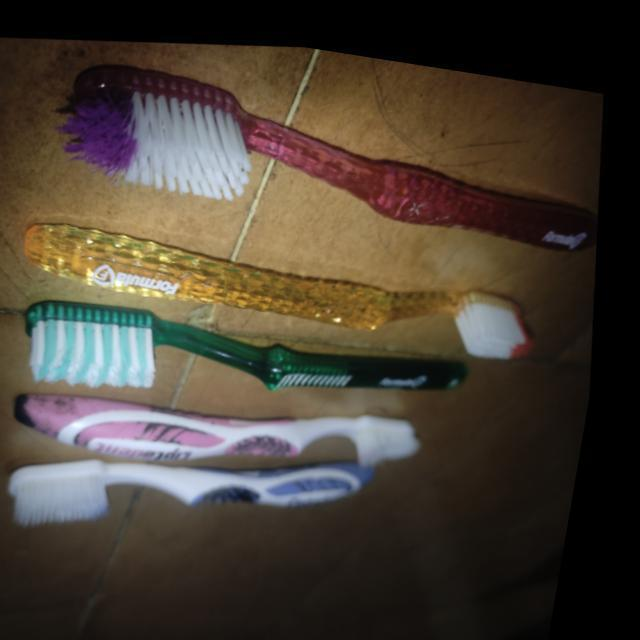toothbrush: (57, 52, 598, 251), (41, 208, 544, 342), (30, 299, 482, 383), (21, 385, 428, 457), (19, 448, 376, 520)
